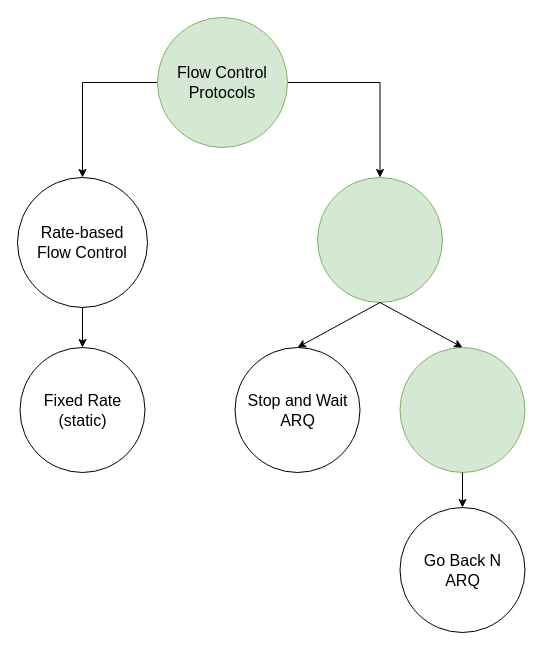
Image size: 543x650. Some labels were removed from this diagram. Here are the shapes that lost their labels. From the top down, the box of each, then its label:
(316, 176, 442, 302): Window Size
(399, 346, 525, 472): Sliding Window Flow Control
